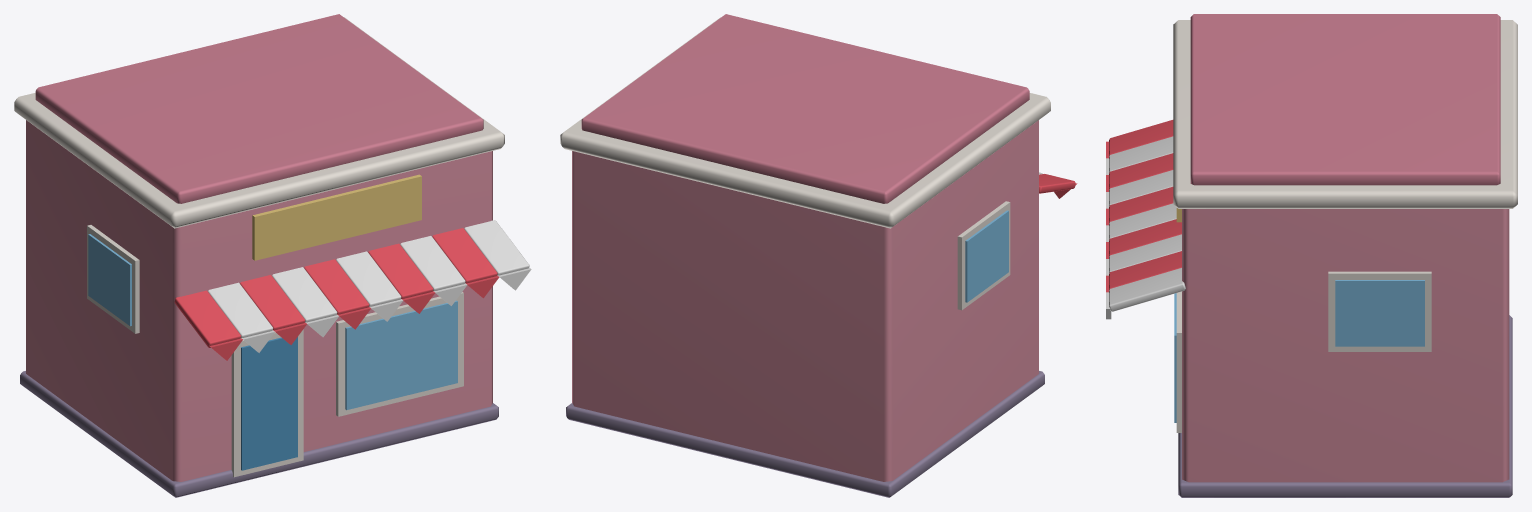
Rendered from block-deco1.glb.
3 renders of one model, left to right at view 1: azimuth 30°, elevation 25°; view 2: azimuth 150°, elevation 25°; view 3: azimuth 270°, elevation 25°, orthographic. The views are drawn at different scales.
Visible parts, largest first — view 1: block-deco1; view 2: block-deco1; view 3: block-deco1.
Boxes of the visible parts, bbox=[...] form: block-deco1: bbox=[14, 14, 531, 497]; block-deco1: bbox=[560, 14, 1077, 497]; block-deco1: bbox=[1106, 14, 1517, 497].
Size of the model in its own units: 2.4 by 2.06 by 2.39.
